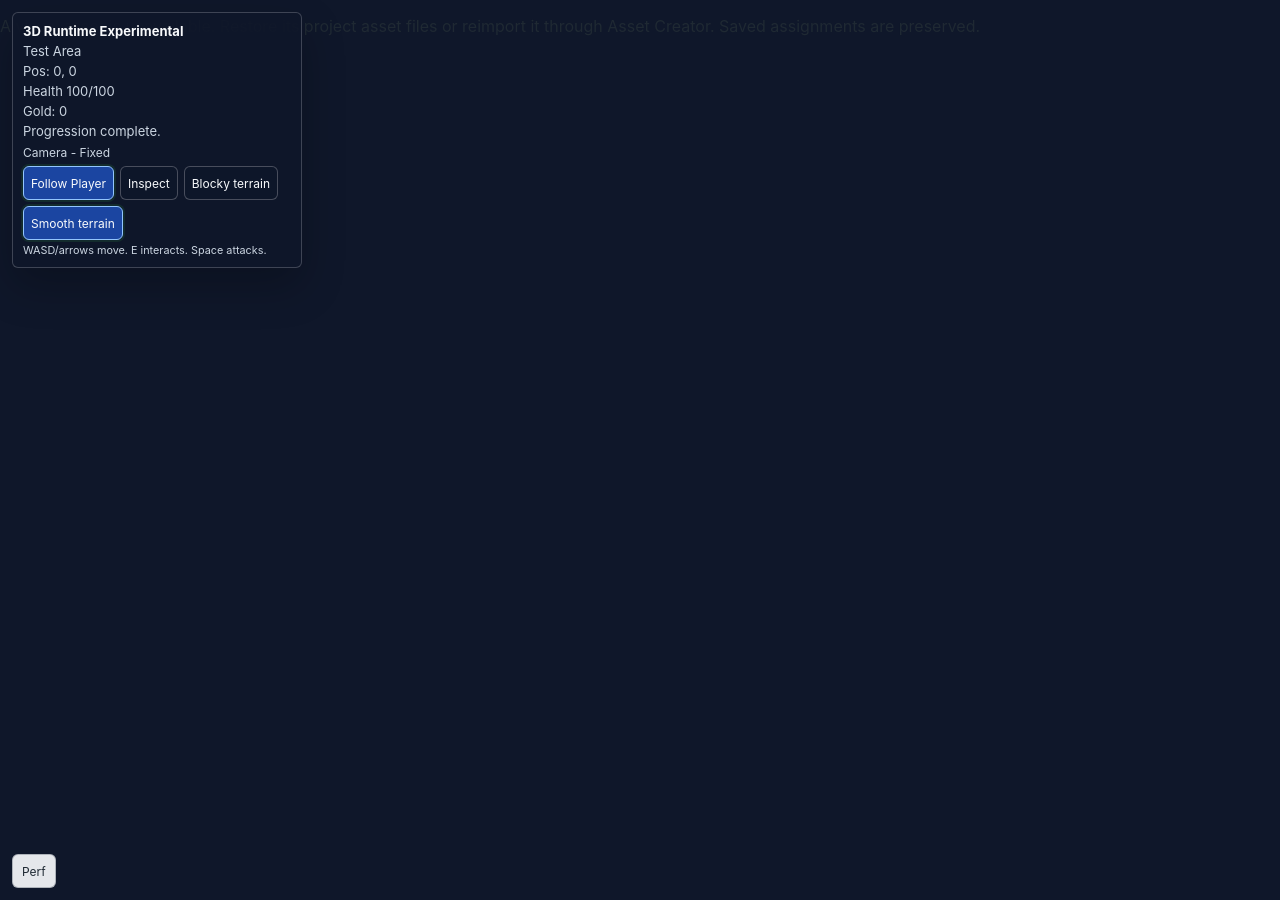
Test case: runs dialogue node cutscenes and cutscene-end rules before resuming the node
Press e
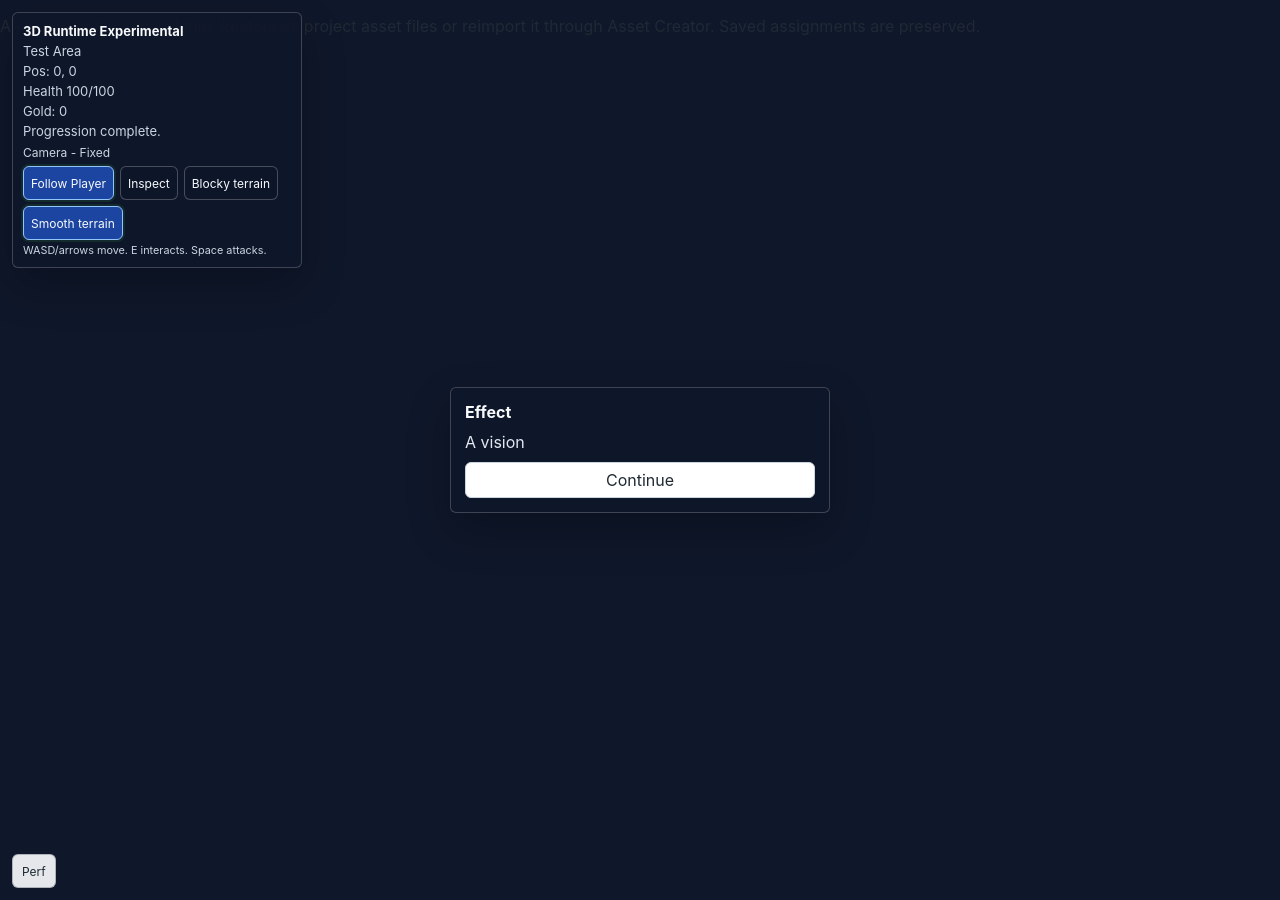
Expected: the text "Welcome traveller" is not shown
Expected: the text "A vision" is shown, [465,432,525,452]
Press Space
Click the button "Continue". click: point(640, 480)
box: [465,462,815,498]
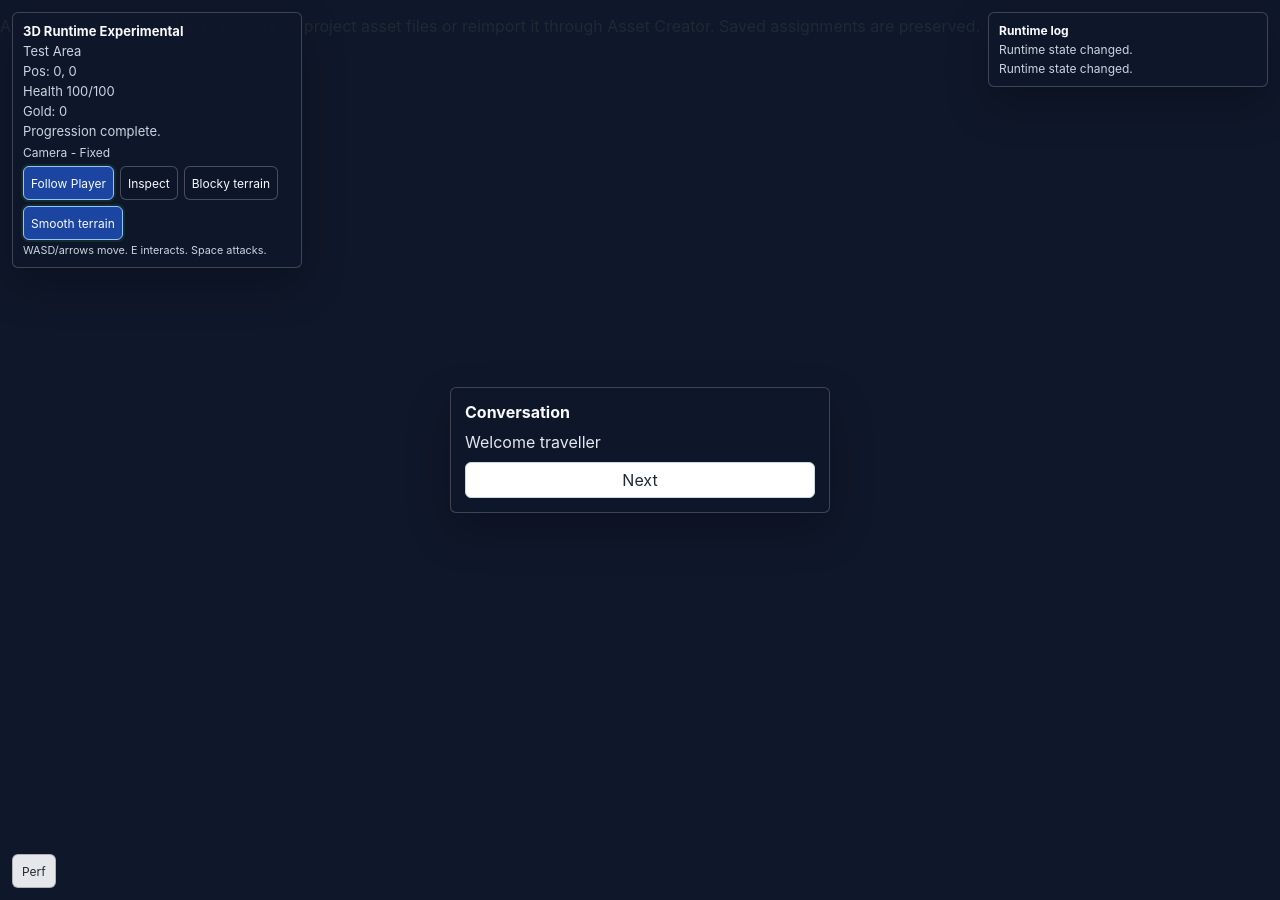
Expected: the text "Welcome traveller" is shown, [465,432,601,452]
